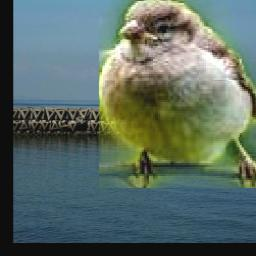Sparrow: (98, 0, 256, 189)
